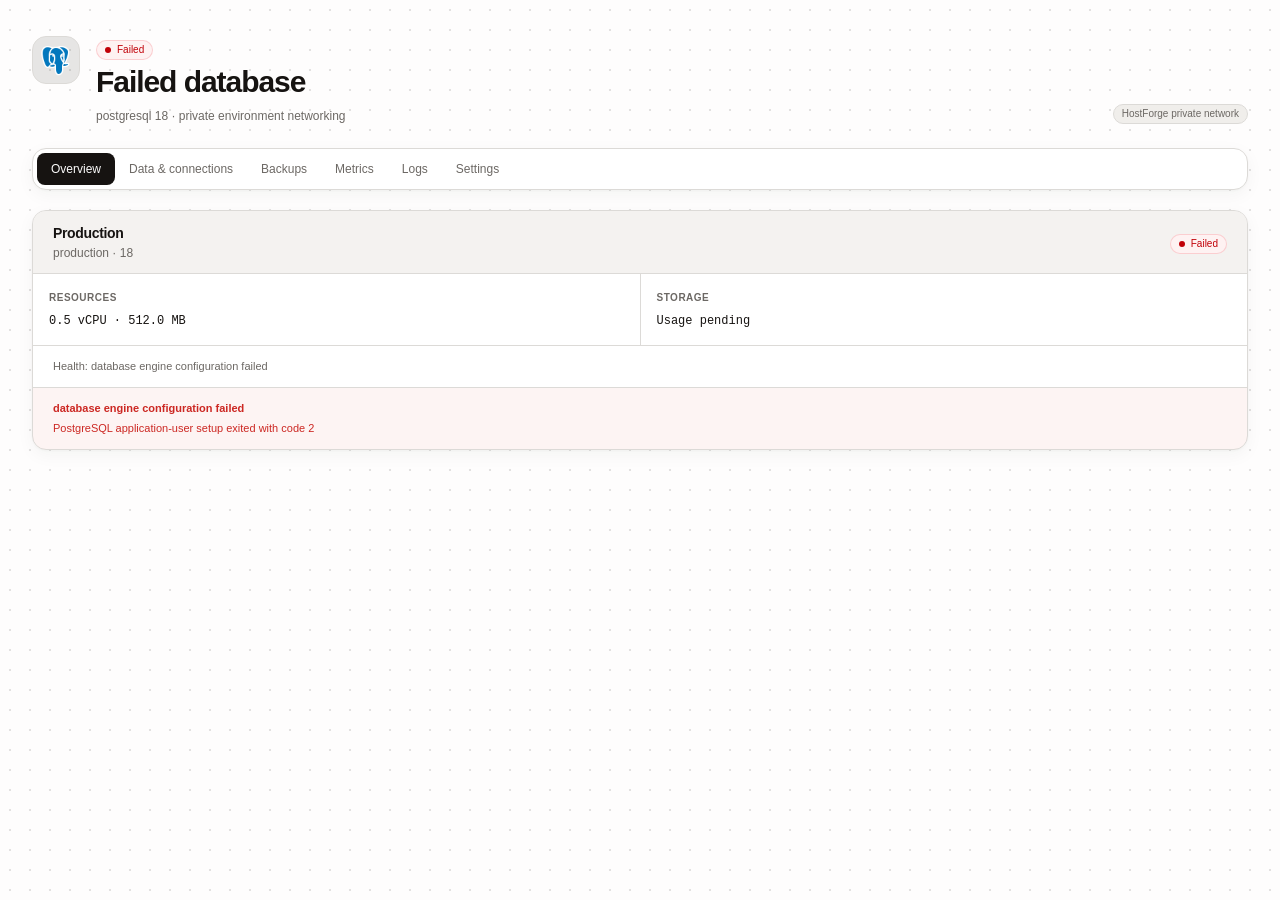
Scenario: service overview › shows the retained operation error when an older failed provision has no container logs
This screenshot has width=1280, height=900.
What coordinates should you click on to do the following:
click the tab "Logs"
I would click on:
 (415, 169)
Its box is 402,162 -> 428,176.
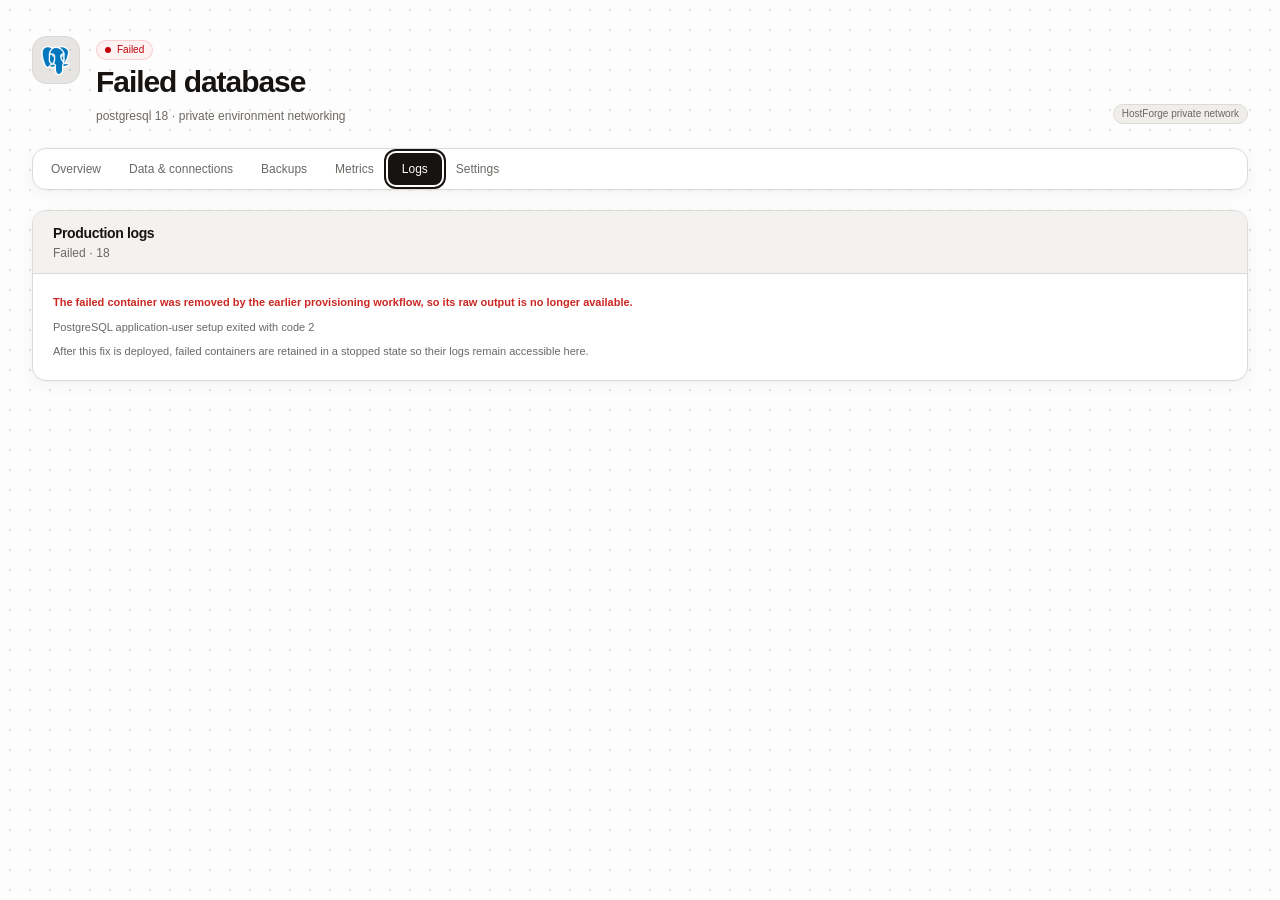
Check: the text "PostgreSQL application-user setup exited with code 2" is shown, box 53,320 -> 314,332
Check: the text "failed container was removed by the earlier provisioning workflow" is shown, box 53,296 -> 633,308
